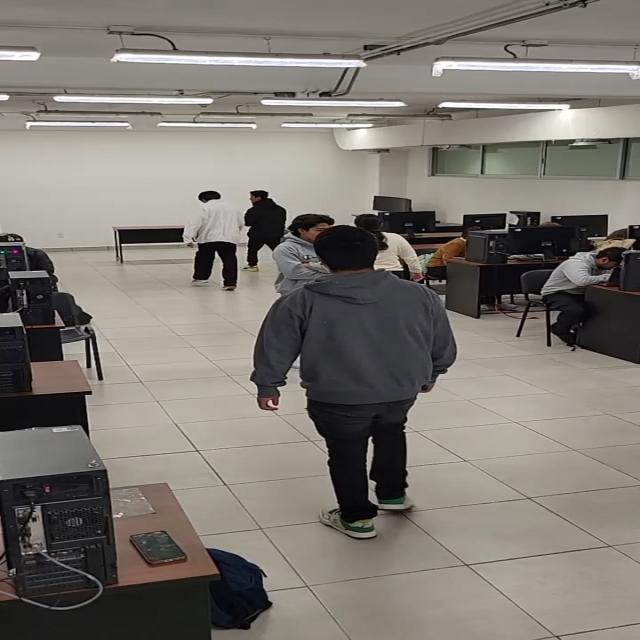Persona: (253, 230, 469, 540), (182, 185, 245, 293), (246, 185, 285, 272)
